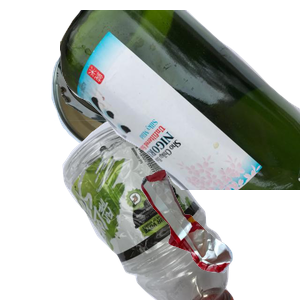glass: (60, 10, 300, 190)
metal: (49, 18, 229, 164)
plastic: (25, 120, 252, 300)
trash: (139, 167, 300, 300)
